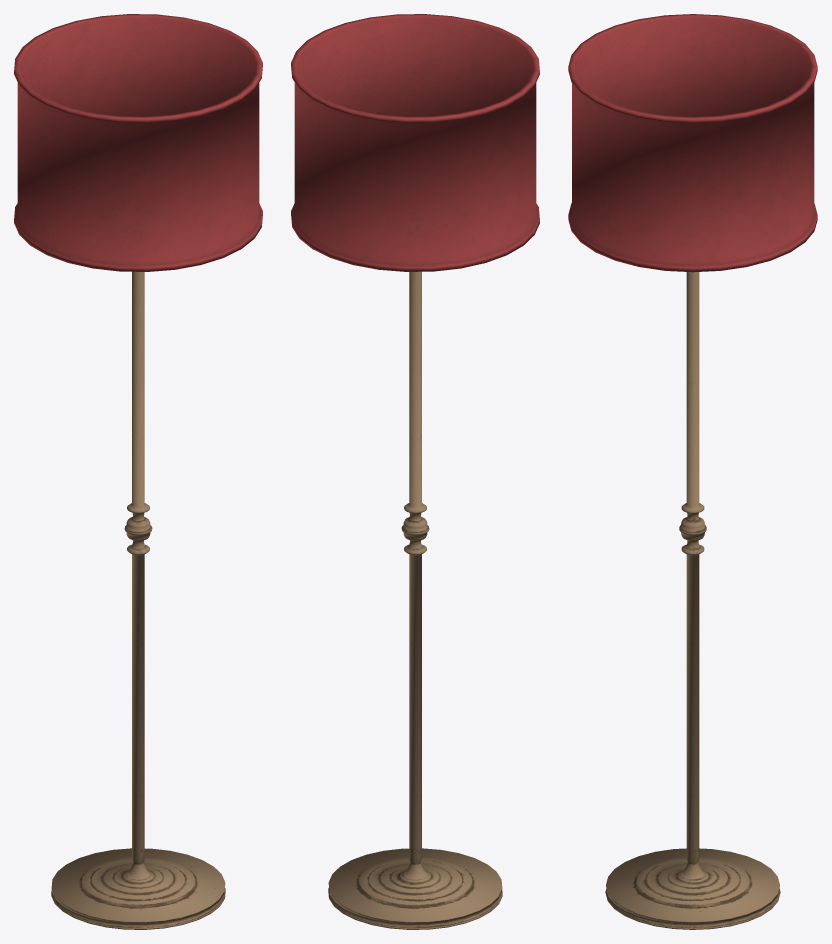
Rendered from floorlamp10.glb.
The picture shows the model from 3 angles, left to right: view 1: azimuth 30°, elevation 25°; view 2: azimuth 150°, elevation 25°; view 3: azimuth 270°, elevation 25°; orthographic projection.
Parts seen in each view (by area): view 1: Cylinder.014; view 2: Cylinder.014; view 3: Cylinder.014.
Boxes of the visible parts, x1,y1,x2,y2 form: Cylinder.014: [14, 14, 262, 929]; Cylinder.014: [291, 14, 539, 929]; Cylinder.014: [568, 14, 817, 929].
Size of the model in its own units: 0.4316 by 1.58 by 0.4316.
1 material, 1 textured.
